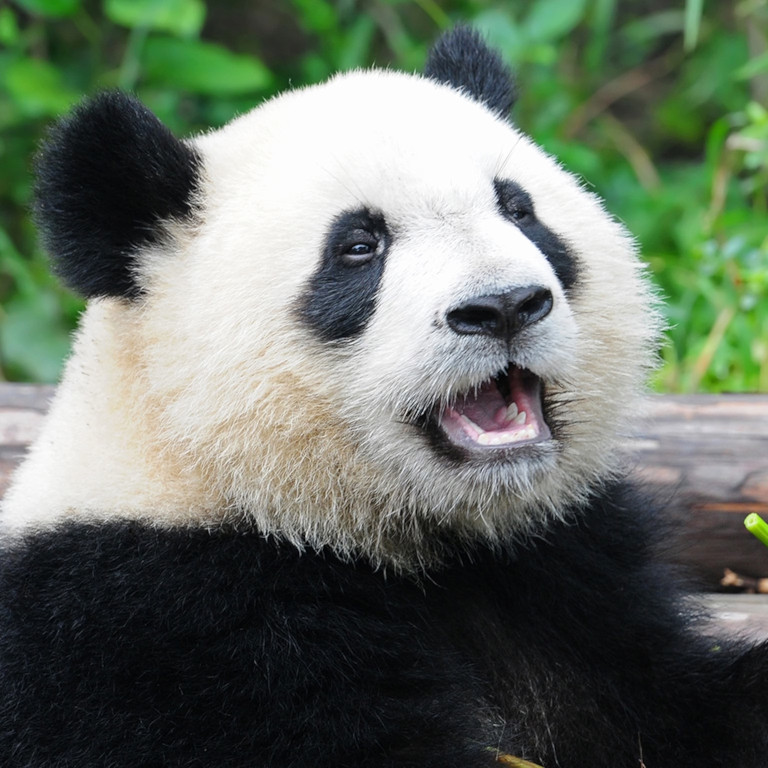Giant panda: (46, 39, 656, 561)
